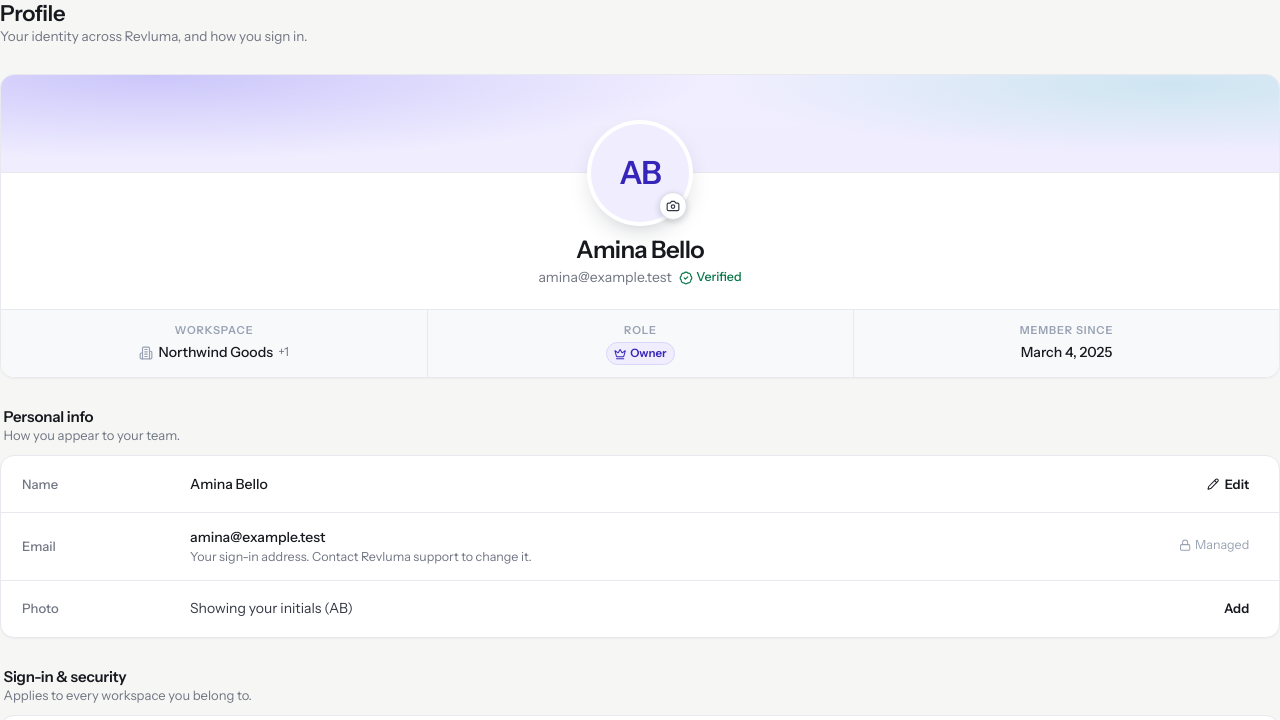
Profile settings page › saves trimmed names, closes the editor and syncs the sidebar user
Expected: the element with test id "profile-workspace" shows "Northwind Goods", [158,343,273,361]
Click the button with aria-label "Edit name". click: (1228, 484)
box: [1198,470,1258,498]
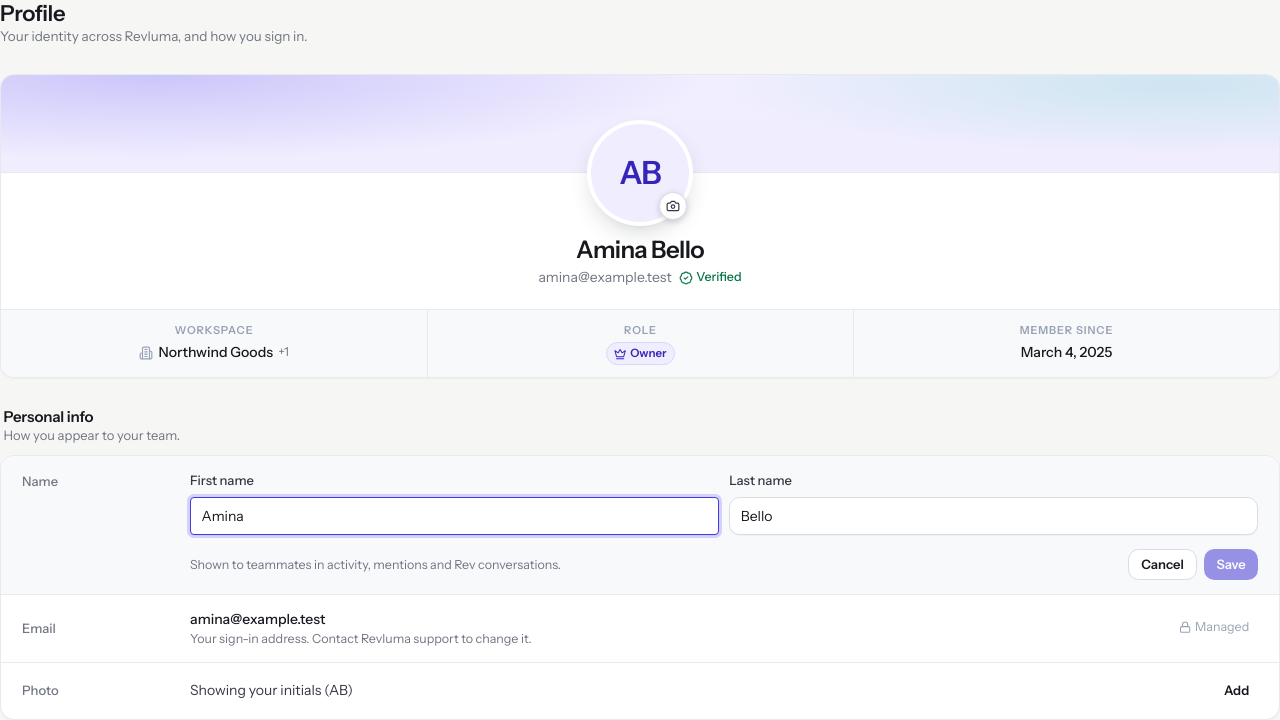
Replace the text in the field labelled "Last name" with "  Okafor ". click: (994, 516)
box: [729,496,1258,534]
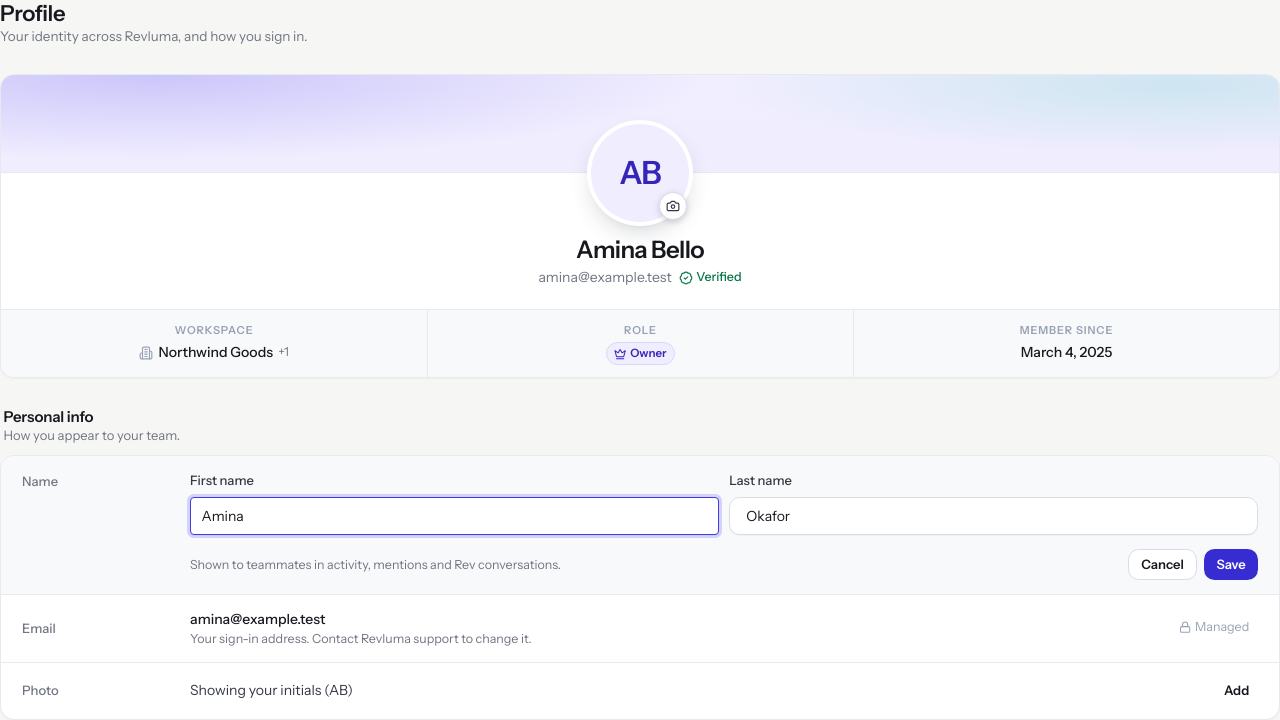
Click the button "Save". click: (1231, 564)
box: [1204,548,1258,580]
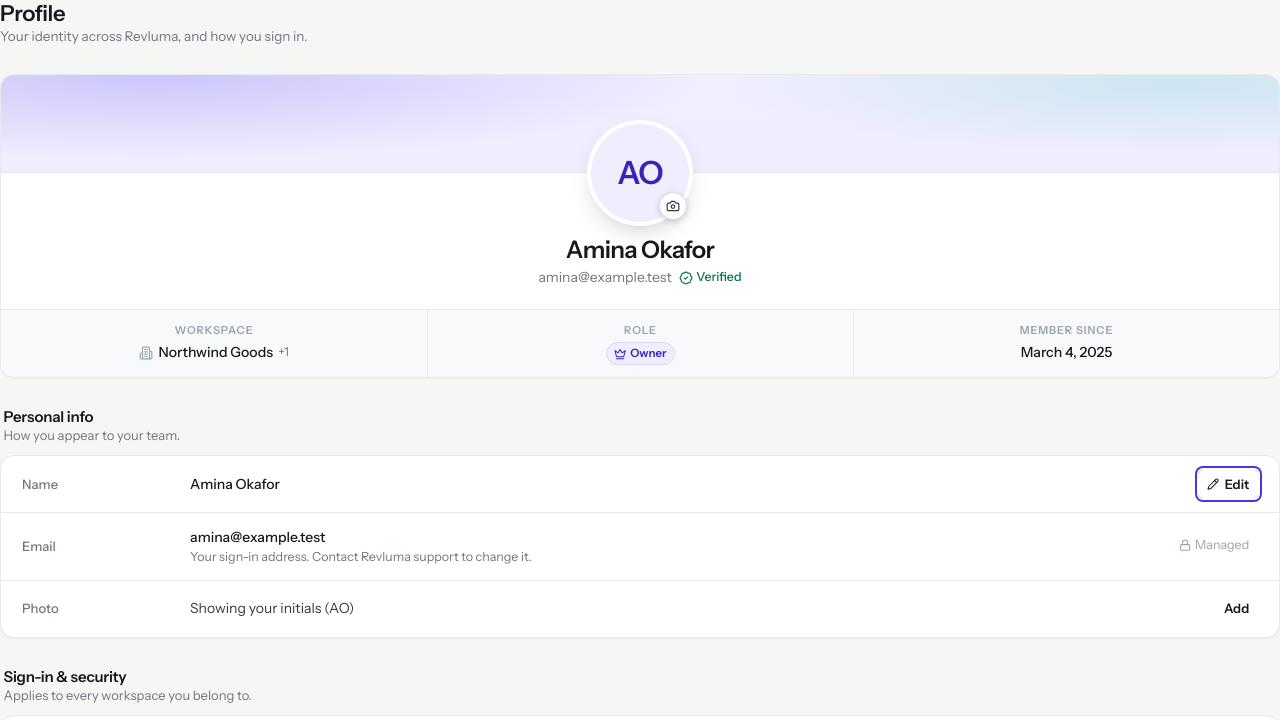
Now the label labelled "Last name" is gone
Now the text with test id "profile-name-value" reads "Amina Okafor", box [190,475,280,493]
Now the heading with test id "profile-hero-name" reads "Amina Okafor", box [566,234,714,264]
